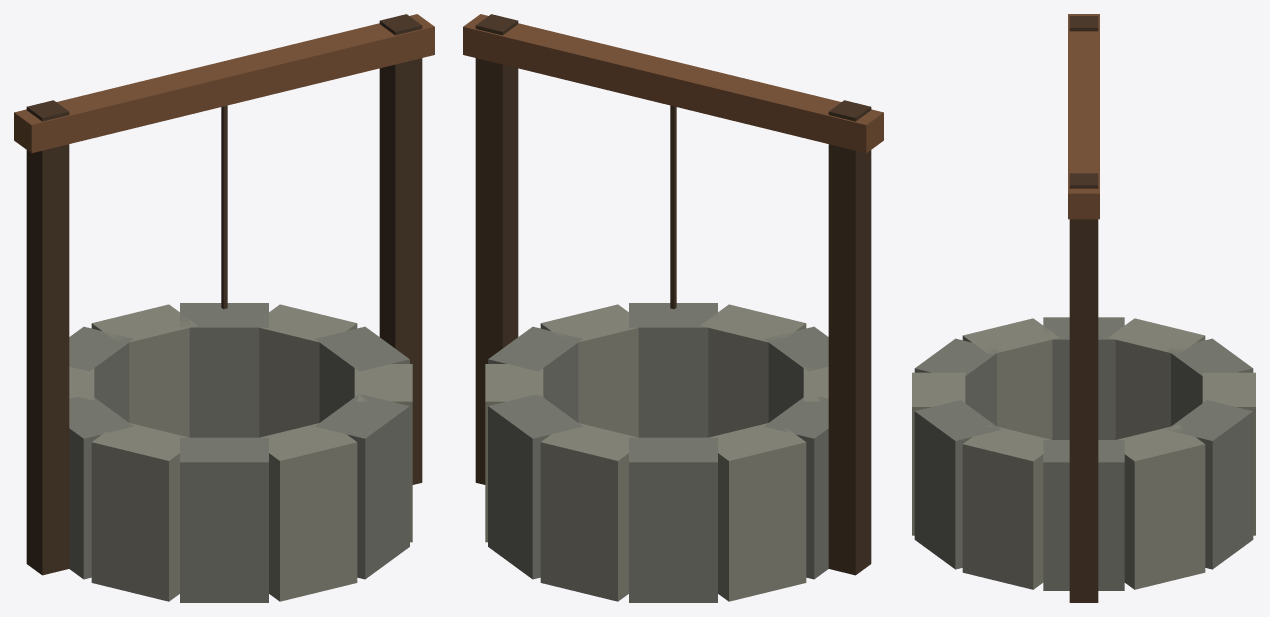
File: village_well.glb
The picture shows the model from 3 angles, left to right: view 1: azimuth 30°, elevation 25°; view 2: azimuth 150°, elevation 25°; view 3: azimuth 270°, elevation 25°; orthographic projection. The views are drawn at different scales.
Visible parts, largest first — view 1: village_well_LOD0; view 2: village_well_LOD0; view 3: village_well_LOD0.
Part boxes in pixels (<box>): village_well_LOD0: <box>14,14,434,602</box>; village_well_LOD0: <box>463,14,883,602</box>; village_well_LOD0: <box>912,14,1255,602</box>.
Size of what is drawn, in the model's own units: 2.4 by 2.6 by 1.94.
